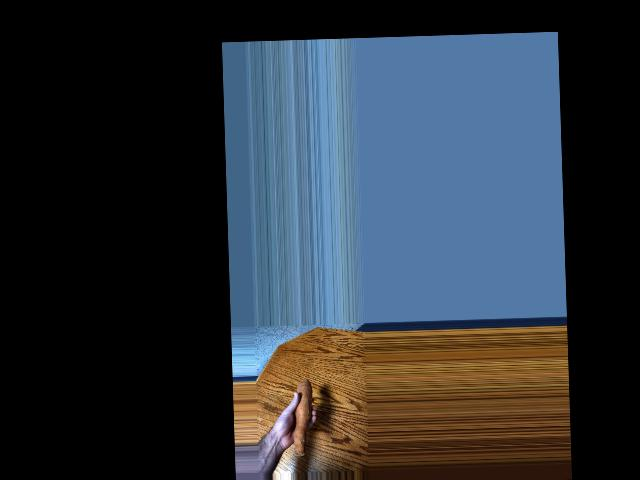sweet_potato: (290, 377, 316, 459)
